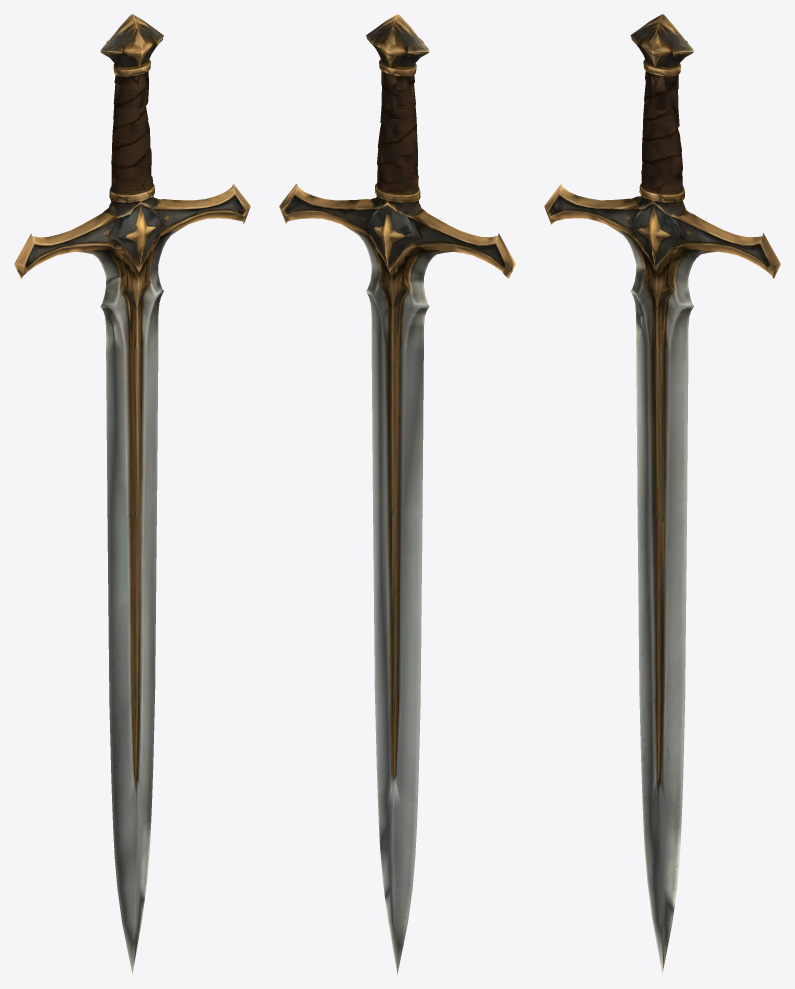
File: schwert.glb
3 renders of one model, left to right at view 1: azimuth 30°, elevation 25°; view 2: azimuth 150°, elevation 25°; view 3: azimuth 330°, elevation 25°, orthographic.
Visible parts, largest first — view 1: geometry_0; view 2: geometry_0; view 3: geometry_0.
Part boxes in pixels (box(x1,y1,x2,y2)): geometry_0: box(14, 14, 250, 974); geometry_0: box(279, 14, 515, 974); geometry_0: box(544, 14, 780, 974).
Size of the model in its own units: 0.2449 by 0.95 by 0.0434.
1 material, 1 textured.
